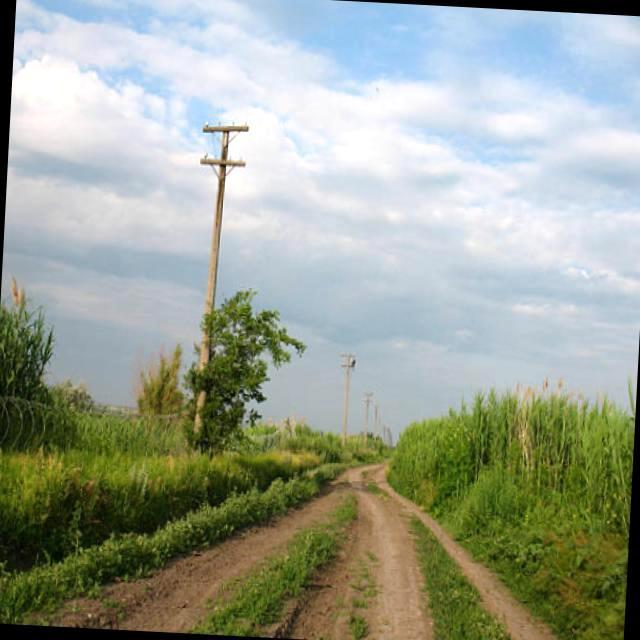light_pole: (174, 115, 270, 418), (181, 276, 279, 436)
